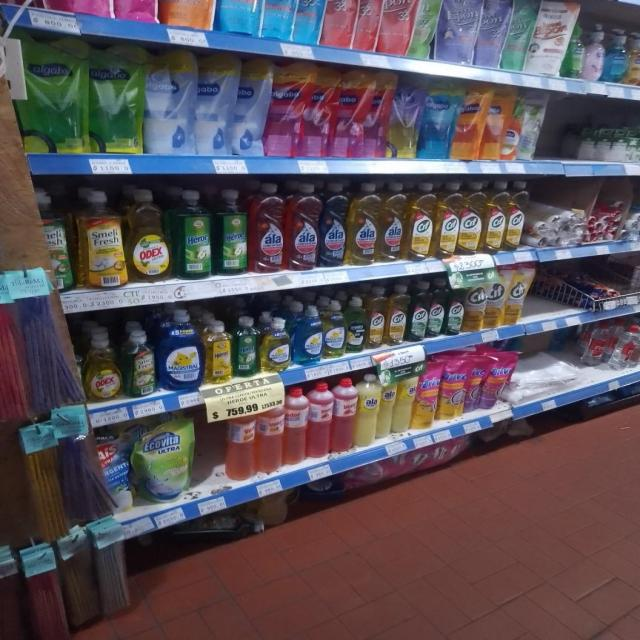ala_conc_amarillo: (348, 182, 379, 266), (379, 182, 405, 262)
ala_conc_azul: (320, 182, 347, 268)
ala_conc_rojo: (250, 182, 285, 274), (286, 182, 319, 272)
ala_crem_amarillo: (356, 373, 378, 447), (378, 372, 395, 439)
cif_conc_bot_amarilla: (407, 182, 434, 260), (436, 181, 458, 258), (460, 181, 482, 255), (484, 180, 506, 253), (506, 181, 525, 251), (387, 284, 407, 346), (367, 286, 386, 349)
cif_conc_botella_verde: (409, 281, 428, 342), (446, 276, 464, 336), (429, 278, 445, 338)
cif_conc_sachet_amarillo: (506, 262, 534, 326), (485, 266, 504, 329)
drive: (440, 357, 466, 421), (416, 362, 438, 431)
heroe: (205, 319, 232, 384), (234, 316, 259, 378)
magistral_con_amarillo: (261, 316, 290, 372), (324, 300, 345, 359)
magistral_con_azul: (160, 308, 202, 391), (293, 304, 323, 366)
odex: (128, 188, 171, 282), (83, 328, 122, 402)
